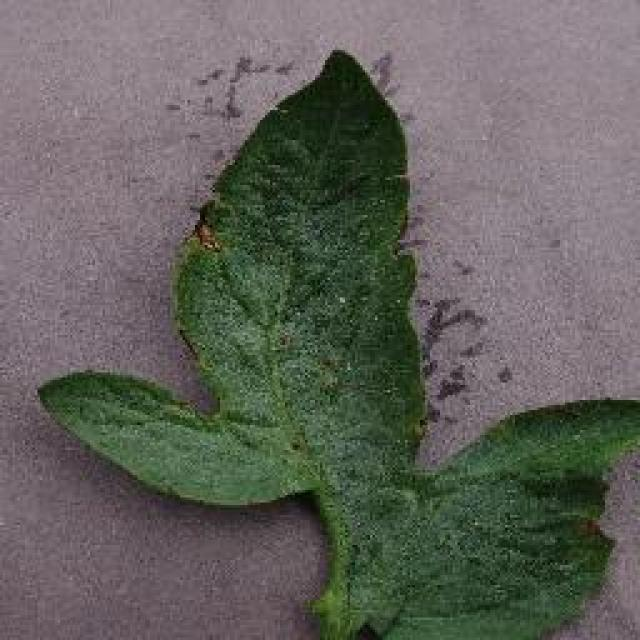Tomato bacterial spot leaf: (64, 50, 628, 640)
